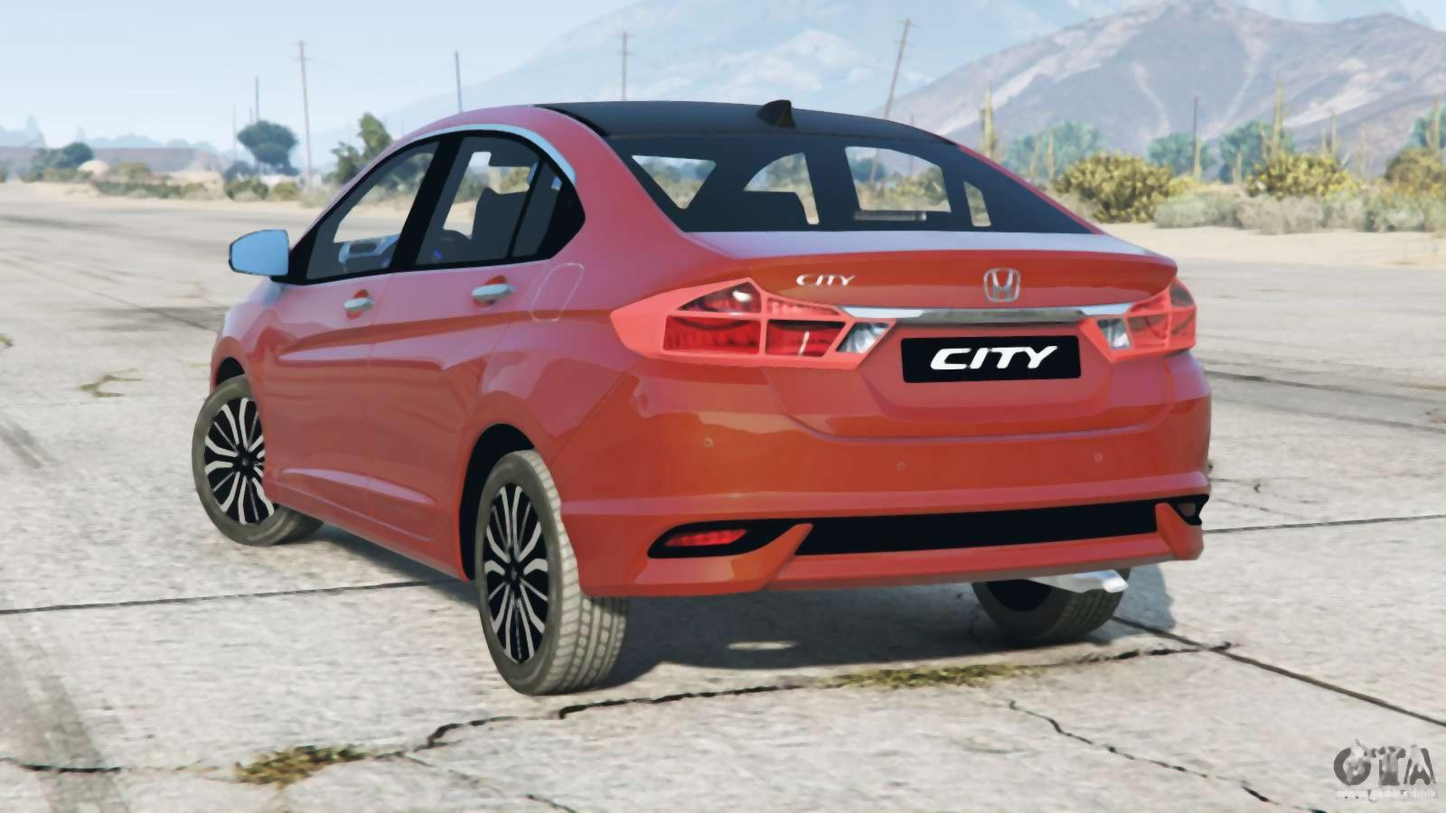Car boot: (695, 226, 1181, 445)
Fender - -F-L-: (231, 277, 279, 512)
Fender - -R-L-: (460, 218, 637, 589)
Front bumper: (199, 298, 237, 388)
Passenger-s door - -F-L-: (274, 115, 399, 526)
Passenger-s door - -R-L-: (378, 109, 539, 542)
Rear bumper: (557, 365, 1230, 601)
Rear light - -L-: (604, 268, 904, 377)
Rear light - -R-: (1066, 269, 1206, 366)
Side bumper - -L-: (255, 461, 480, 593)
Side mirror - -L-: (223, 218, 299, 293)
